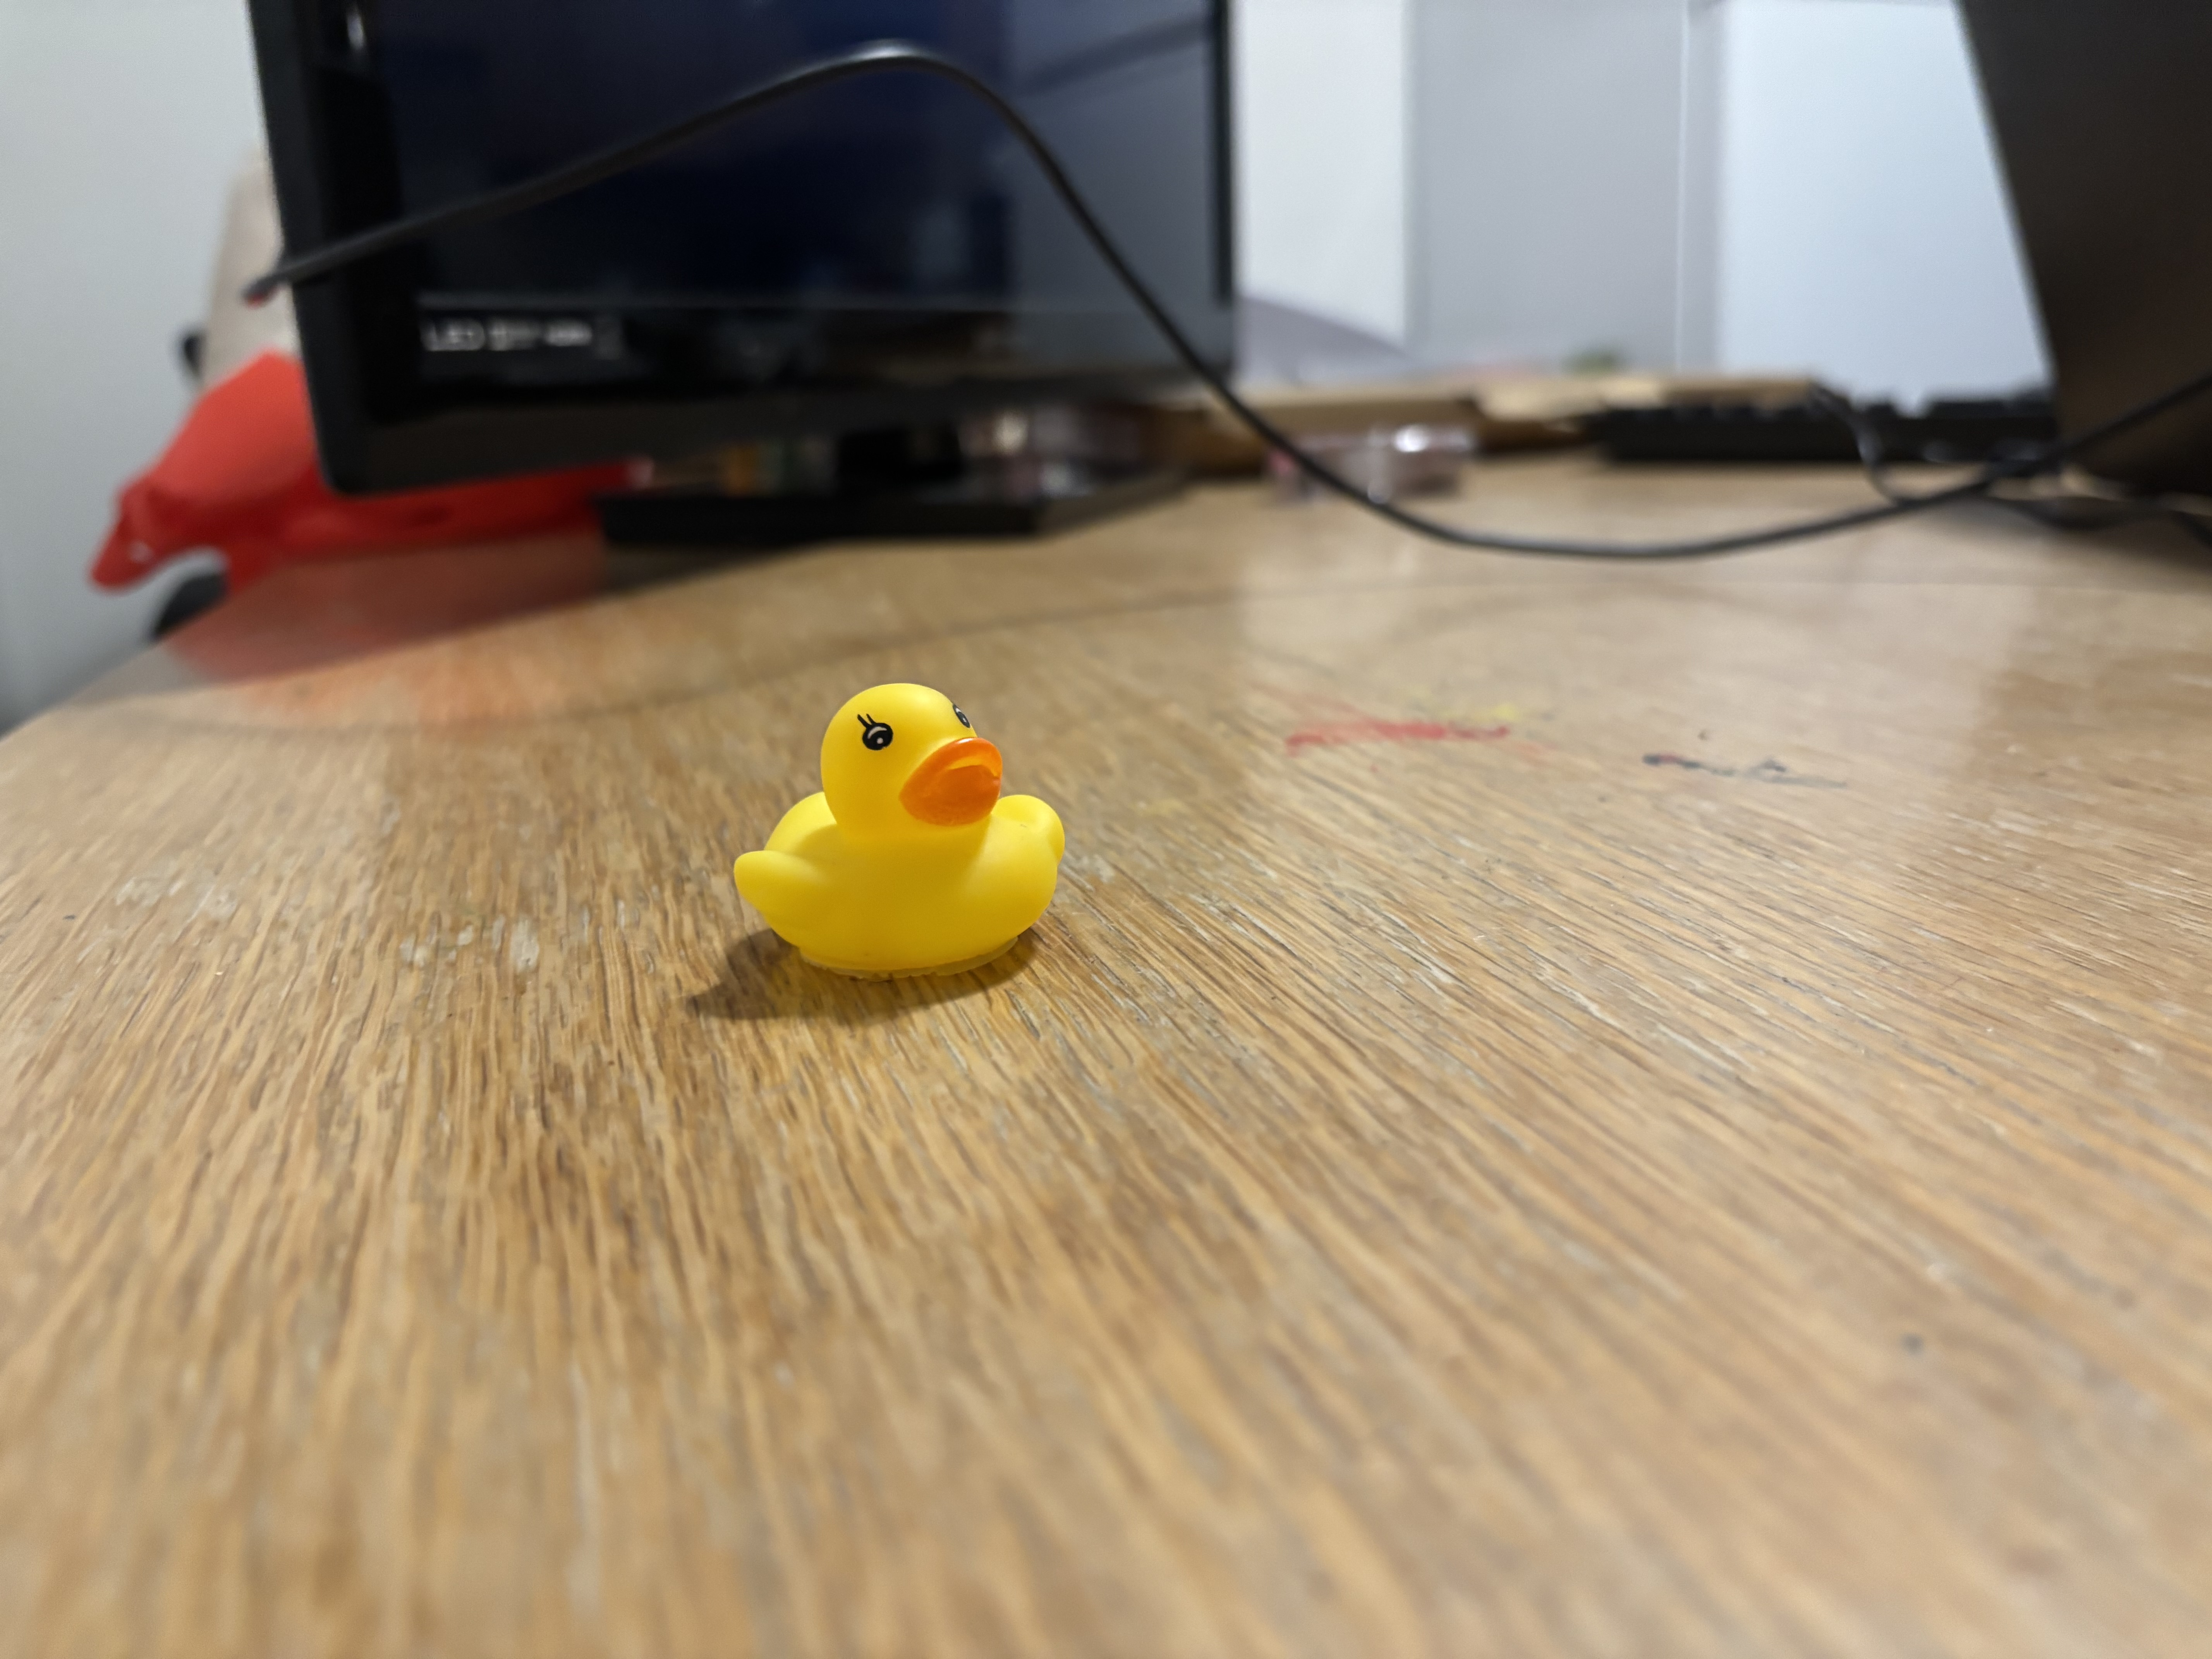duck_regular: (702, 671, 1083, 993)
